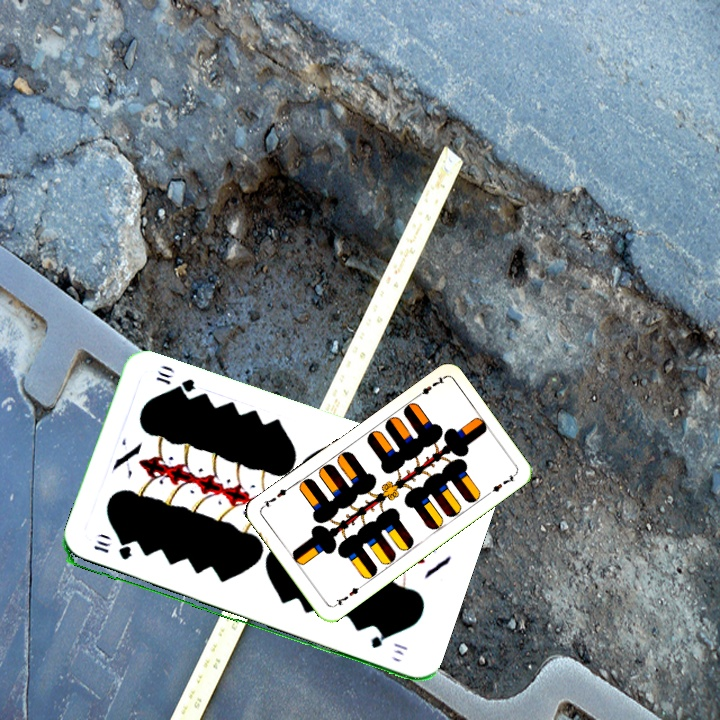E7: (329, 581, 365, 609), (411, 373, 447, 401)
G10: (89, 536, 134, 563)
